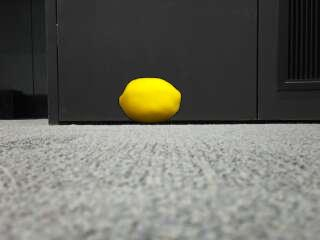lemon: (121, 78, 182, 124)
